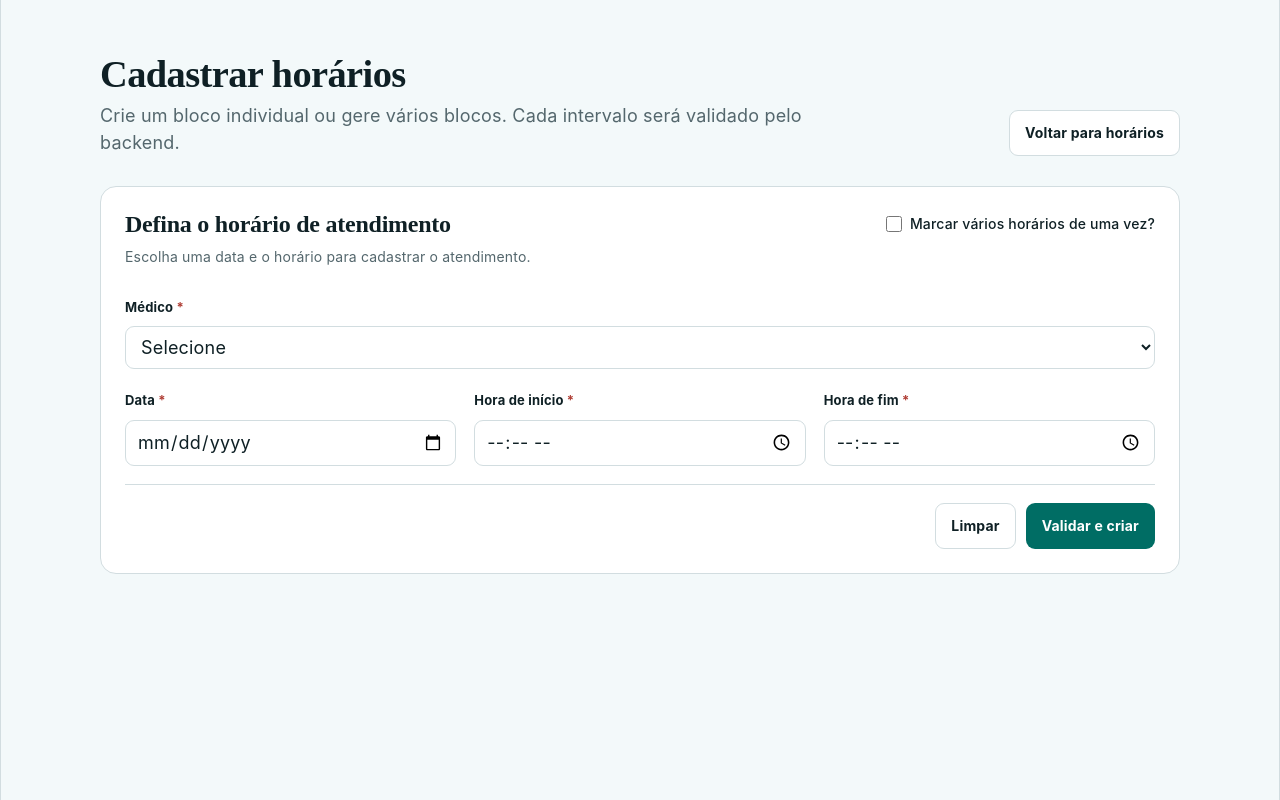
Test: HorarioFormPage › switches to batch mode when compact checkbox is clicked
expect the dropdown labelled "Médico" is shown: met, box [125,326,1155,369]
Click the checkbox labelled "Marcar vários horários de uma vez?": (894, 224) [886,216,902,232]
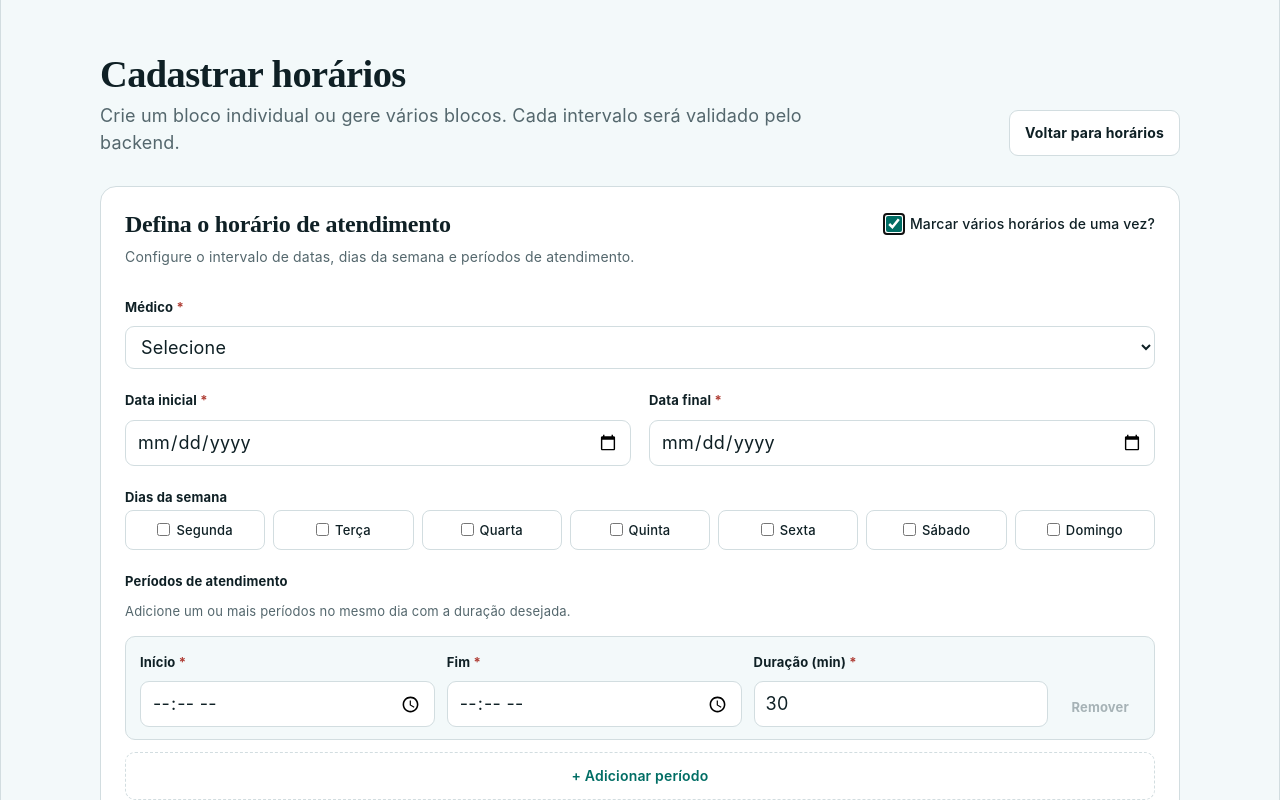
expect the checkbox labelled "Marcar vários horários de uma vez?" is checked: met, box [886,216,902,232]
expect the date field labelled "Data inicial" is shown: met, box [125,420,631,466]
expect the date field labelled "Data final" is shown: met, box [649,420,1155,466]
